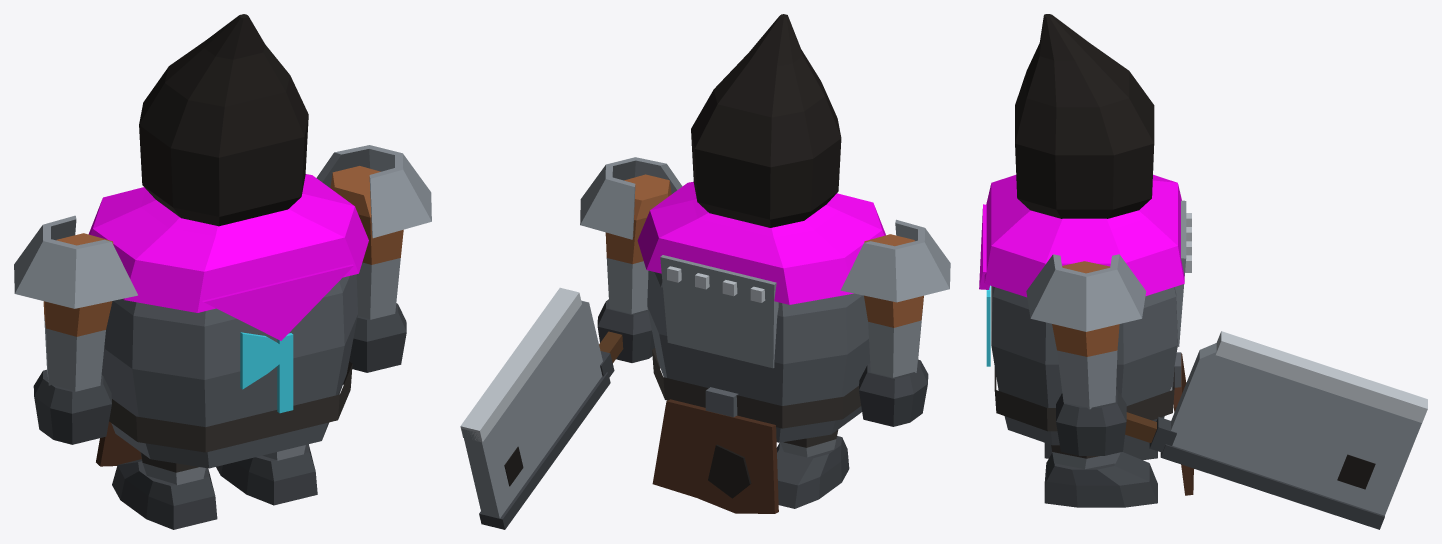
File: CH_MurderMachine_HeadsmanOfRome.fbx
3 renders of one model, left to right at view 1: azimuth 30°, elevation 25°; view 2: azimuth 150°, elevation 25°; view 3: azimuth 270°, elevation 25°, orthographic. The views are drawn at different scales.
Parts seen in each view (by area): view 1: Body, Head, ArmL, ArmR, LegL, LegR; view 2: Body, ArmR, Head, ArmL, LegL; view 3: ArmR, Body, Head, LegR, LegL.
Boxes of the visible parts, bbox=[...] form: Body: bbox=[88, 174, 368, 468]; Head: bbox=[139, 14, 308, 226]; ArmL: bbox=[14, 215, 137, 444]; ArmR: bbox=[316, 145, 431, 372]; LegL: bbox=[112, 452, 217, 529]; LegR: bbox=[216, 444, 317, 505]; Body: bbox=[637, 181, 885, 513]; ArmR: bbox=[460, 157, 682, 529]; Head: bbox=[691, 14, 841, 227]; ArmL: bbox=[840, 219, 950, 426]; LegL: bbox=[776, 430, 849, 508]; ArmR: bbox=[1026, 254, 1427, 529]; Body: bbox=[979, 174, 1193, 495]; Head: bbox=[1015, 14, 1154, 218]; LegR: bbox=[1044, 445, 1157, 507]; LegL: bbox=[1044, 438, 1157, 460].
Size of the model in its own units: 1.93 by 1.95 by 2.2.
